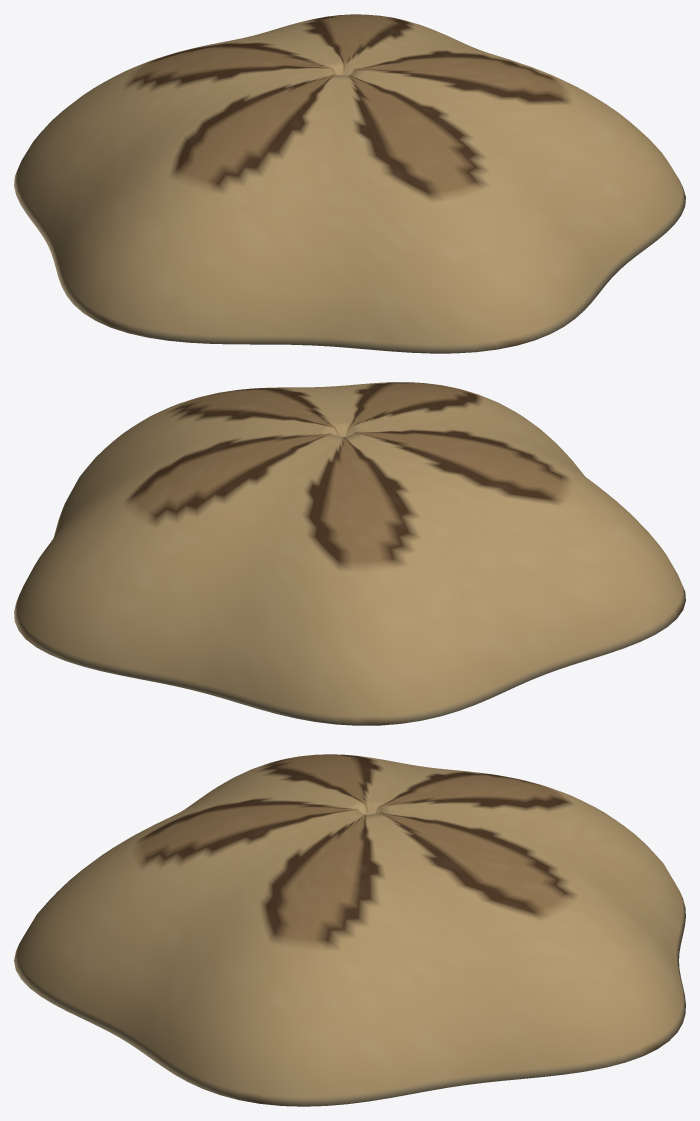
Rendered from ClypeasterAegyptiacus.fbx.
The picture shows the model from 3 angles, top to bottom: view 1: azimuth 30°, elevation 25°; view 2: azimuth 150°, elevation 25°; view 3: azimuth 270°, elevation 25°; orthographic projection. The views are drawn at different scales.
Visible parts, largest first — view 1: ClypeasterAegyptiacus; view 2: ClypeasterAegyptiacus; view 3: ClypeasterAegyptiacus.
Boxes of the visible parts, bbox=[...] form: ClypeasterAegyptiacus: bbox=[14, 14, 685, 353]; ClypeasterAegyptiacus: bbox=[14, 382, 685, 725]; ClypeasterAegyptiacus: bbox=[14, 754, 685, 1106].
Size of the model in its own units: 1.57 by 0.395 by 1.53.
